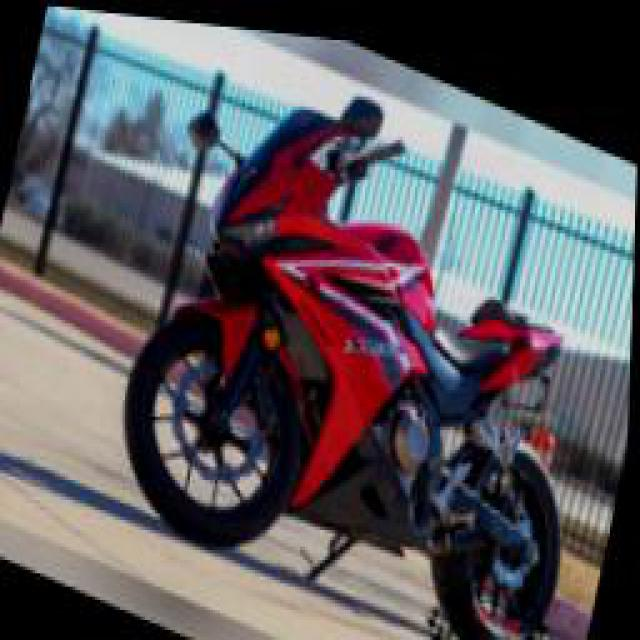CBR500R: (100, 43, 632, 637)
